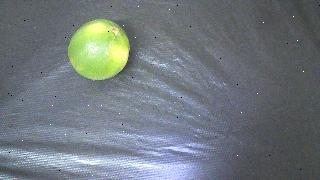LOCAL: (68, 20, 130, 81)
